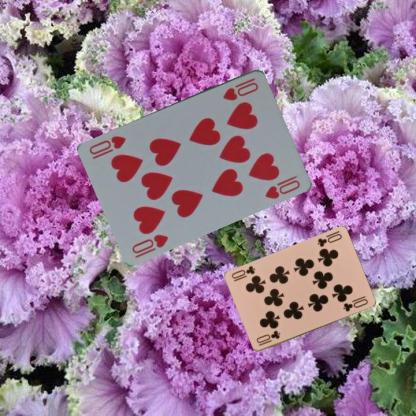10c: (314, 231, 343, 249), (254, 328, 281, 347)
10h: (220, 75, 260, 102), (129, 231, 170, 255)
